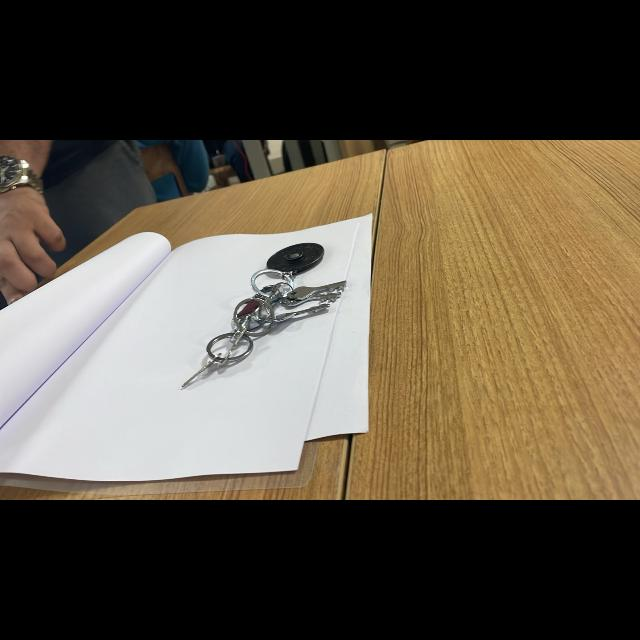keys: (174, 242, 353, 410)
